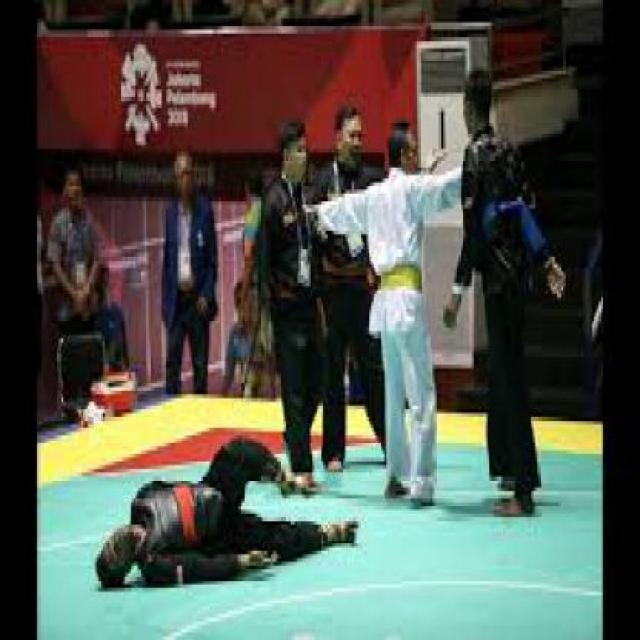fall: (83, 402, 359, 584)
